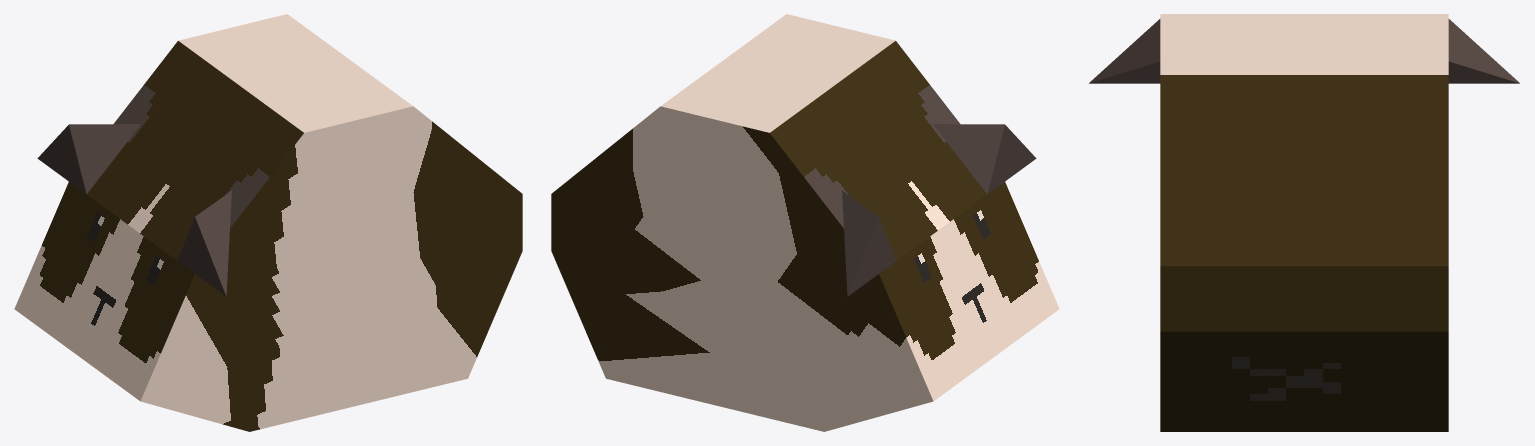
File: ginnie2.gltf
3 views of the same model, side by side, from view 1: azimuth 30°, elevation 25°; view 2: azimuth 150°, elevation 25°; view 3: azimuth 270°, elevation 25° (orthographic). The views are drawn at different scales.
Bounding box in the file's own units: 1.75 × 1.25 × 1.5.
Materials: 1 (1 with a texture image).
